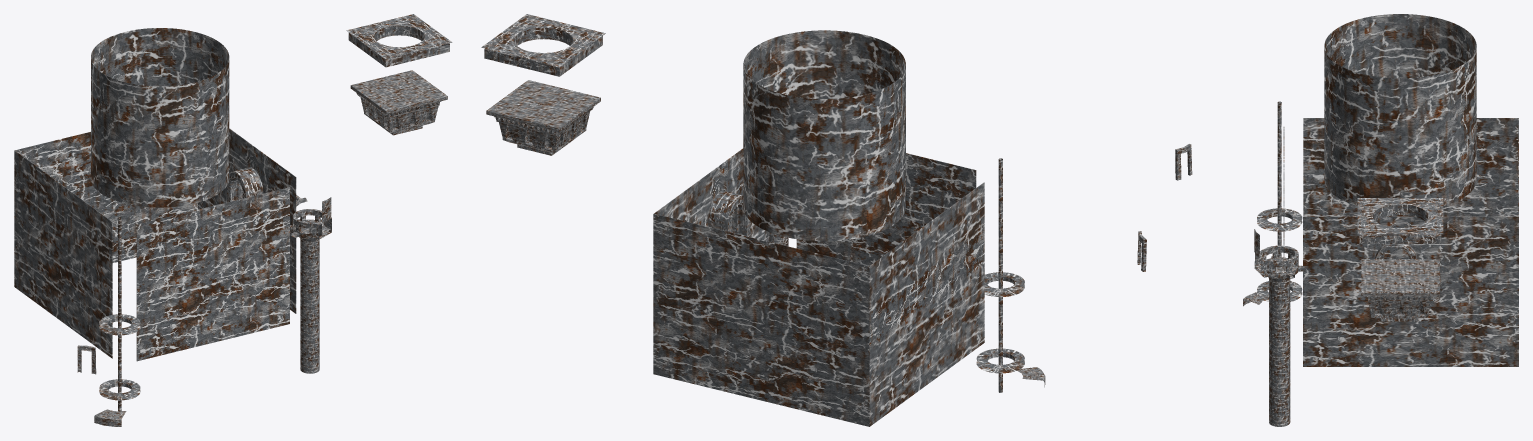
The model's file is field_winter_tilling_rock.fbx.
3 renders of one model, left to right at view 1: azimuth 30°, elevation 25°; view 2: azimuth 150°, elevation 25°; view 3: azimuth 270°, elevation 25°, orthographic. The views are drawn at different scales.
Parts seen in each view (by area): view 1: field_winter_tilling_ice, field_winter_centerwall_cylinder, field_winter_frame_roof10, field_winter_endpoint, field_winter_floor_insidetower, field_winter_door_todome1; view 2: field_winter_tilling_ice, field_winter_centerwall_cylinder, field_winter_frame_roof10, field_winter_floor_insidetower, field_winter_door_todome1; view 3: field_winter_tilling_ice, field_winter_centerwall_cylinder, field_winter_frame_roof10, field_winter_endpoint, field_winter_floor_insidetower, field_winter_entrance_totower, field_winter_door_todome1.
Boxes of the visible parts, x1,y1,x2,y2 form: field_winter_tilling_ice: [14, 128, 296, 361]; field_winter_centerwall_cylinder: [91, 28, 229, 207]; field_winter_frame_roof10: [346, 14, 452, 135]; field_winter_endpoint: [290, 209, 331, 373]; field_winter_floor_insidetower: [94, 217, 140, 426]; field_winter_door_todome1: [227, 167, 307, 206]; field_winter_tilling_ice: [653, 148, 984, 426]; field_winter_centerwall_cylinder: [743, 30, 905, 241]; field_winter_frame_roof10: [481, 14, 605, 155]; field_winter_floor_insidetower: [976, 158, 1045, 392]; field_winter_door_todome1: [708, 190, 750, 237]; field_winter_tilling_ice: [1283, 118, 1518, 366]; field_winter_centerwall_cylinder: [1324, 14, 1476, 205]; field_winter_frame_roof10: [1357, 198, 1443, 321]; field_winter_endpoint: [1254, 245, 1304, 426]; field_winter_floor_insidetower: [1243, 101, 1302, 306]; field_winter_entrance_totower: [1175, 143, 1192, 180]; field_winter_door_todome1: [1375, 244, 1416, 259].
Size of the model in its own units: 4689 by 2934 by 2808.
1 material, 1 textured.
